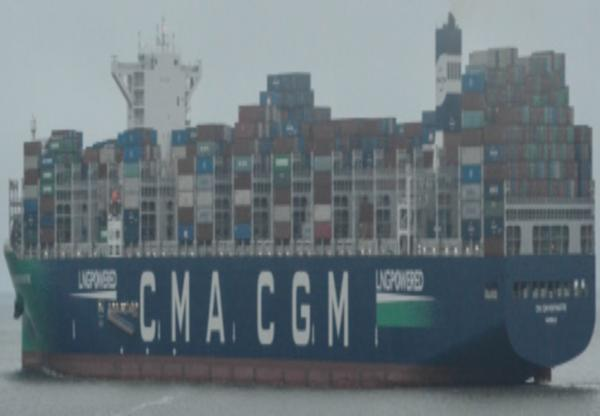Container Ship: (2, 10, 598, 389)
